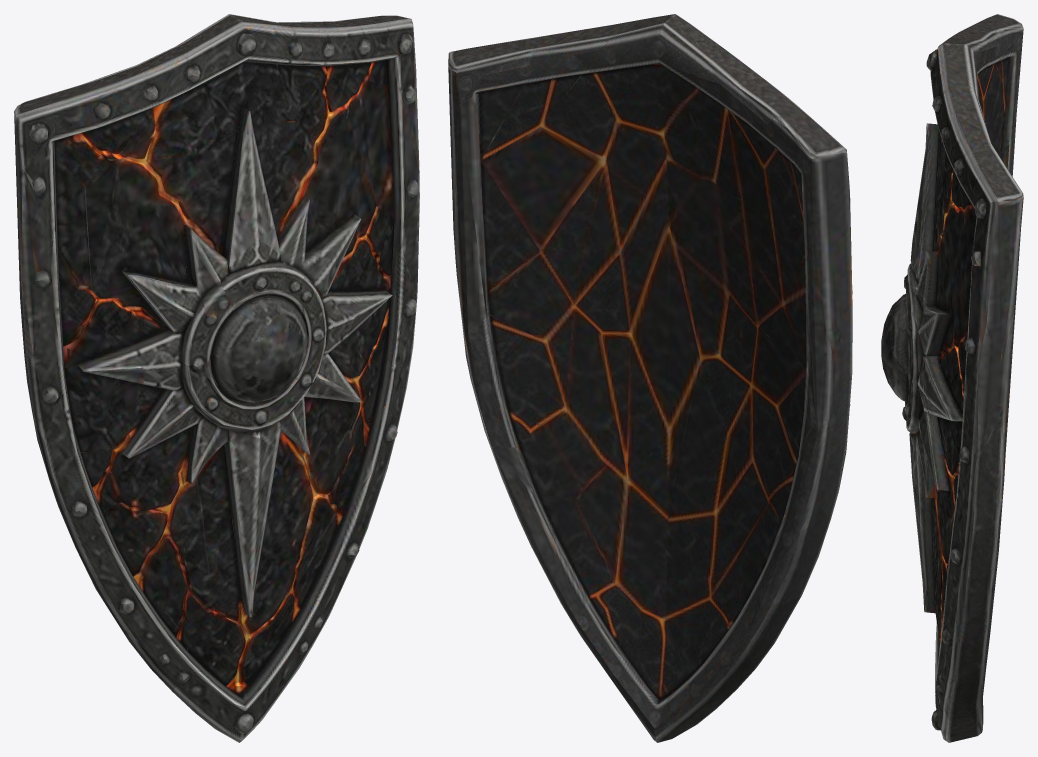
Rendered from ashen_shield.glb.
The picture shows the model from 3 angles, left to right: view 1: azimuth 30°, elevation 25°; view 2: azimuth 150°, elevation 25°; view 3: azimuth 270°, elevation 25°; orthographic projection. The views are drawn at different scales.
Bounding box in the file's own units: 0.8815 × 1.53 × 0.2828.
1 material, 1 textured.
